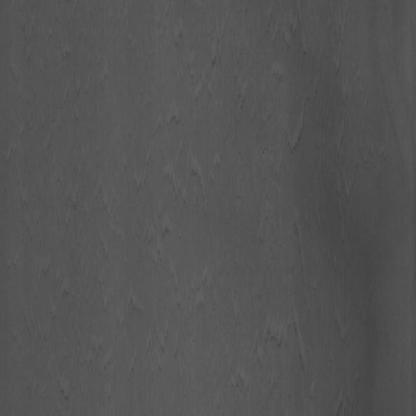silk_spot: (152, 30, 315, 356)
